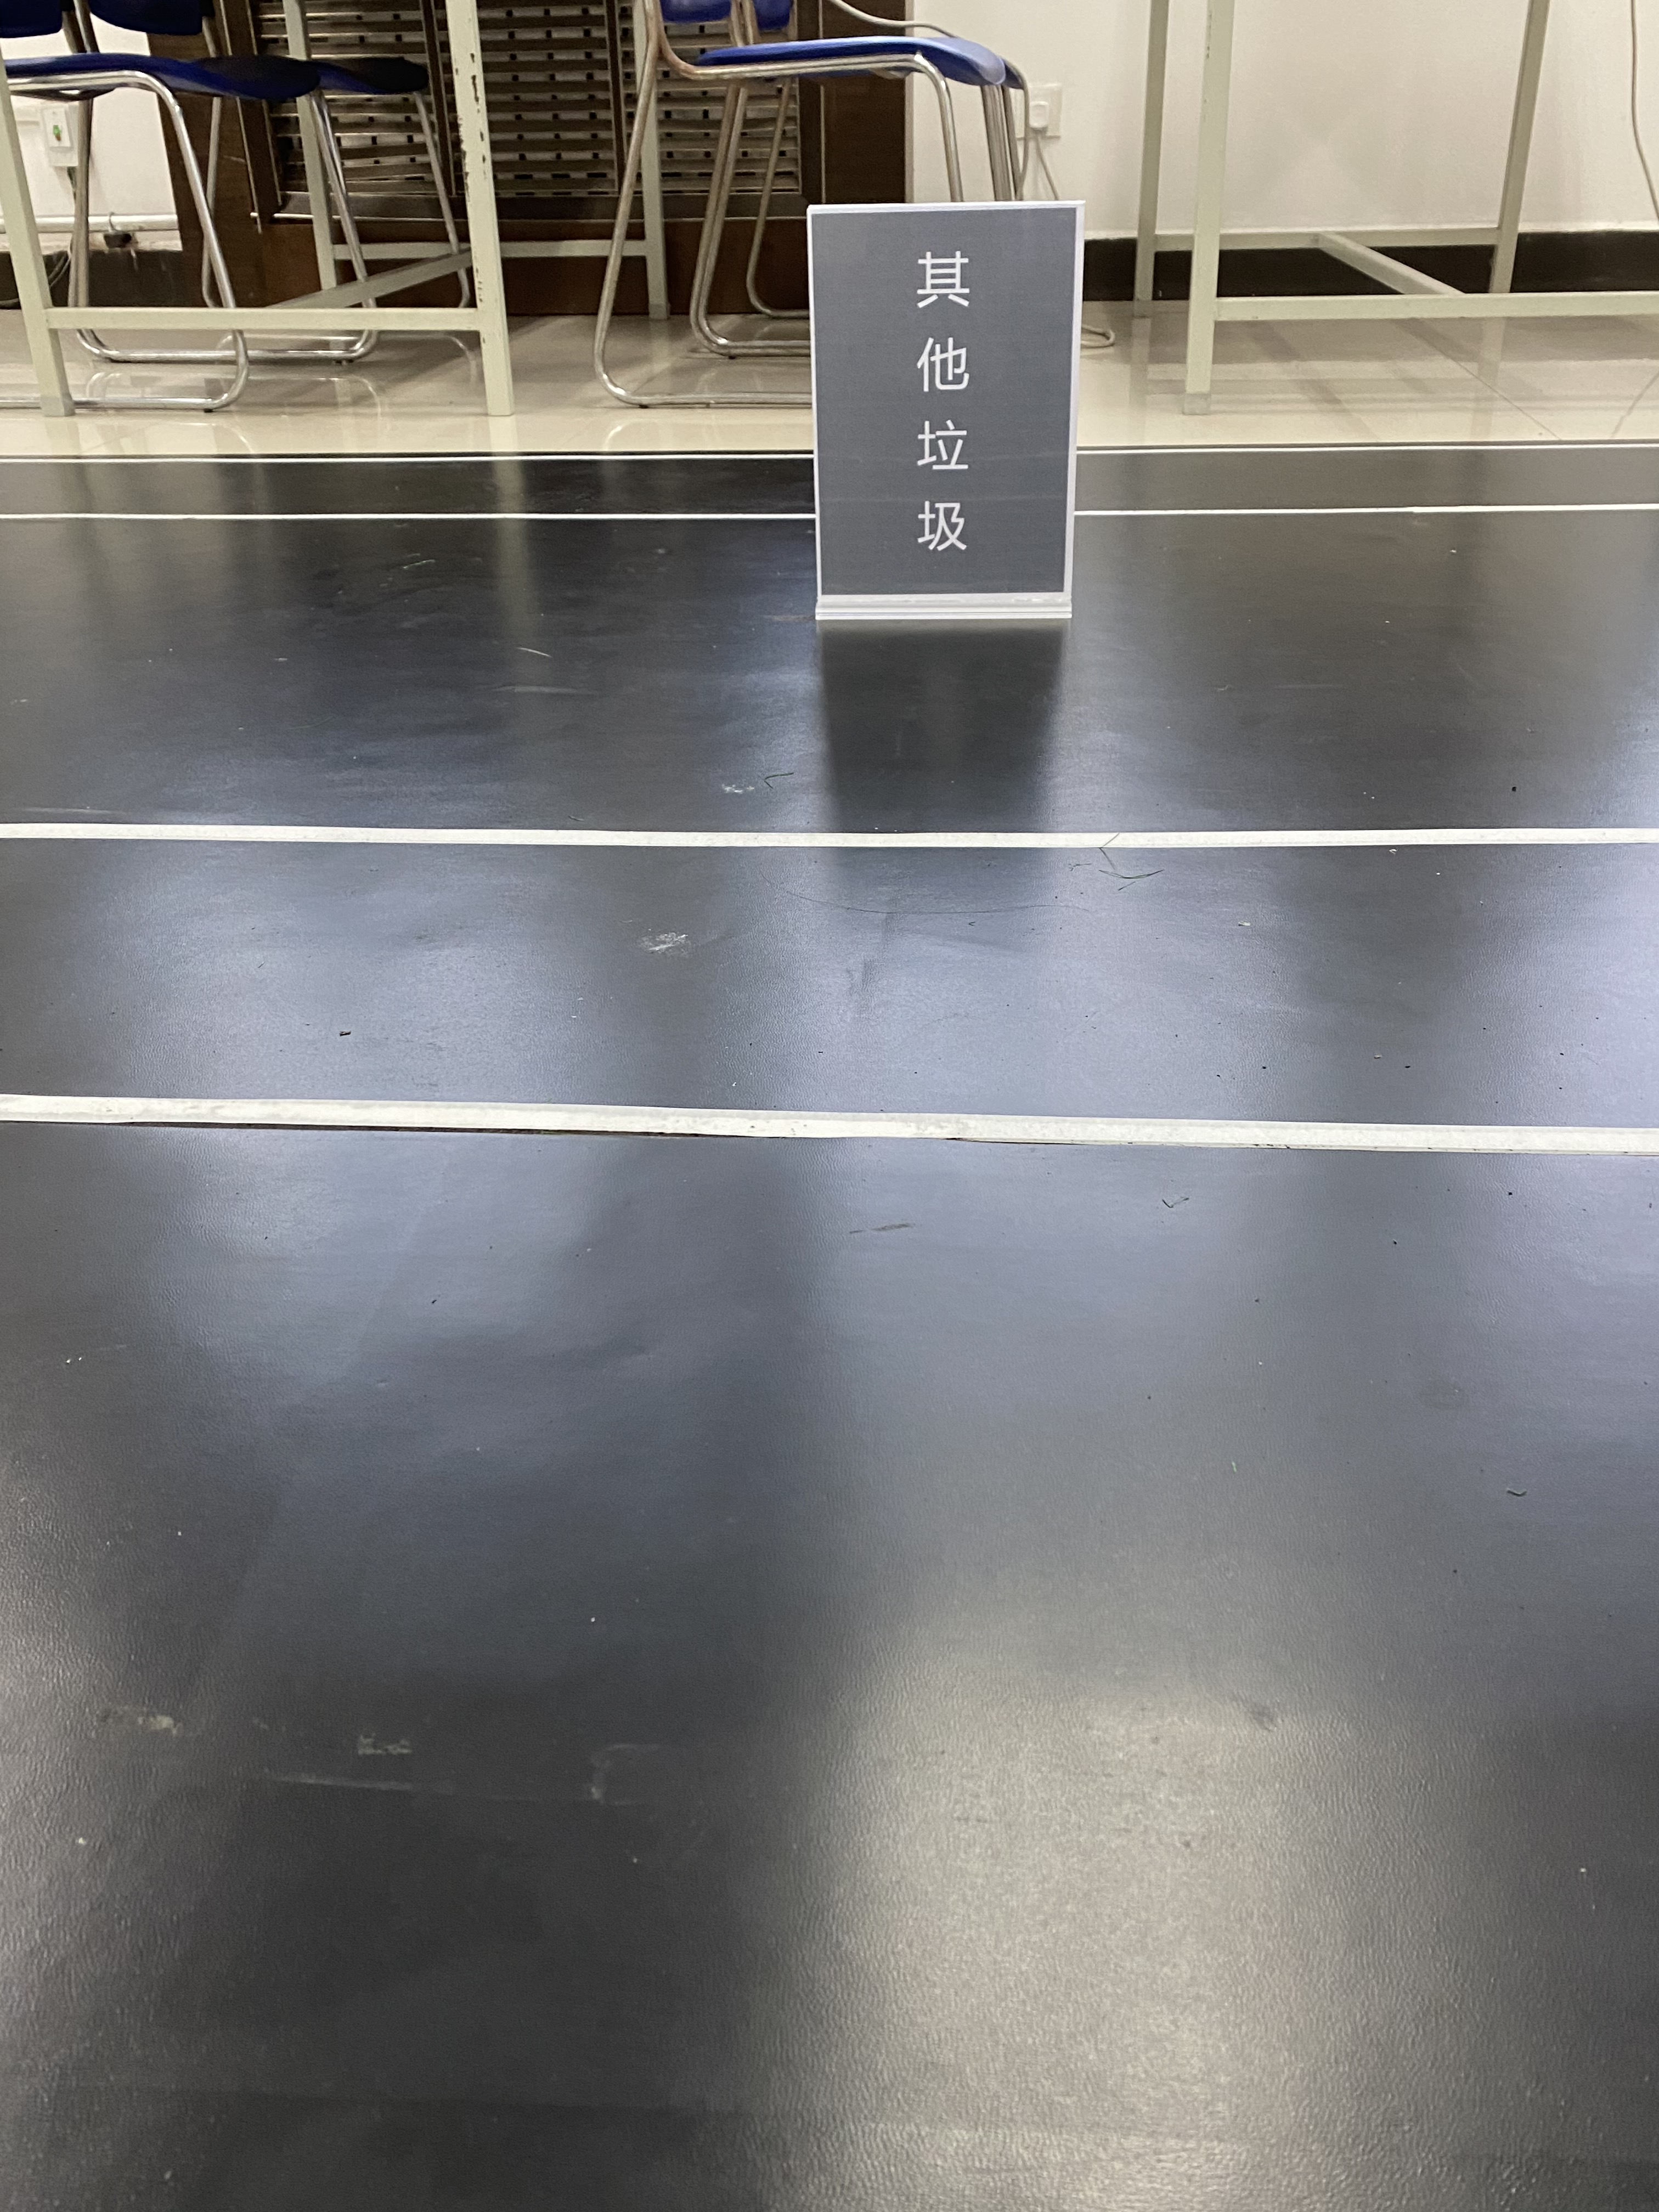black: (821, 221, 1063, 570)
